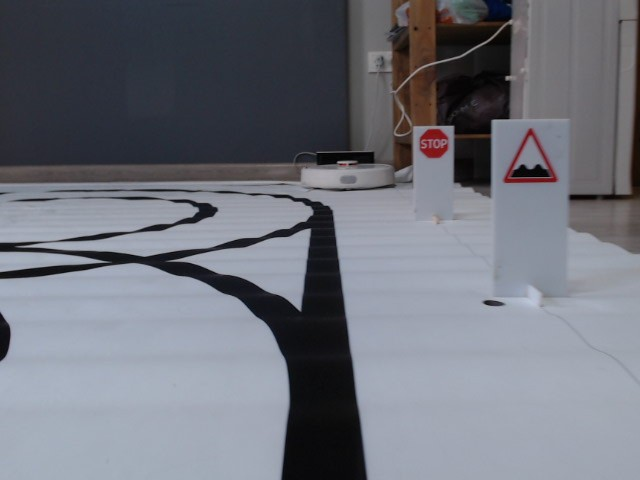Nerov: (498, 124, 560, 189)
Stop: (419, 129, 447, 158)
